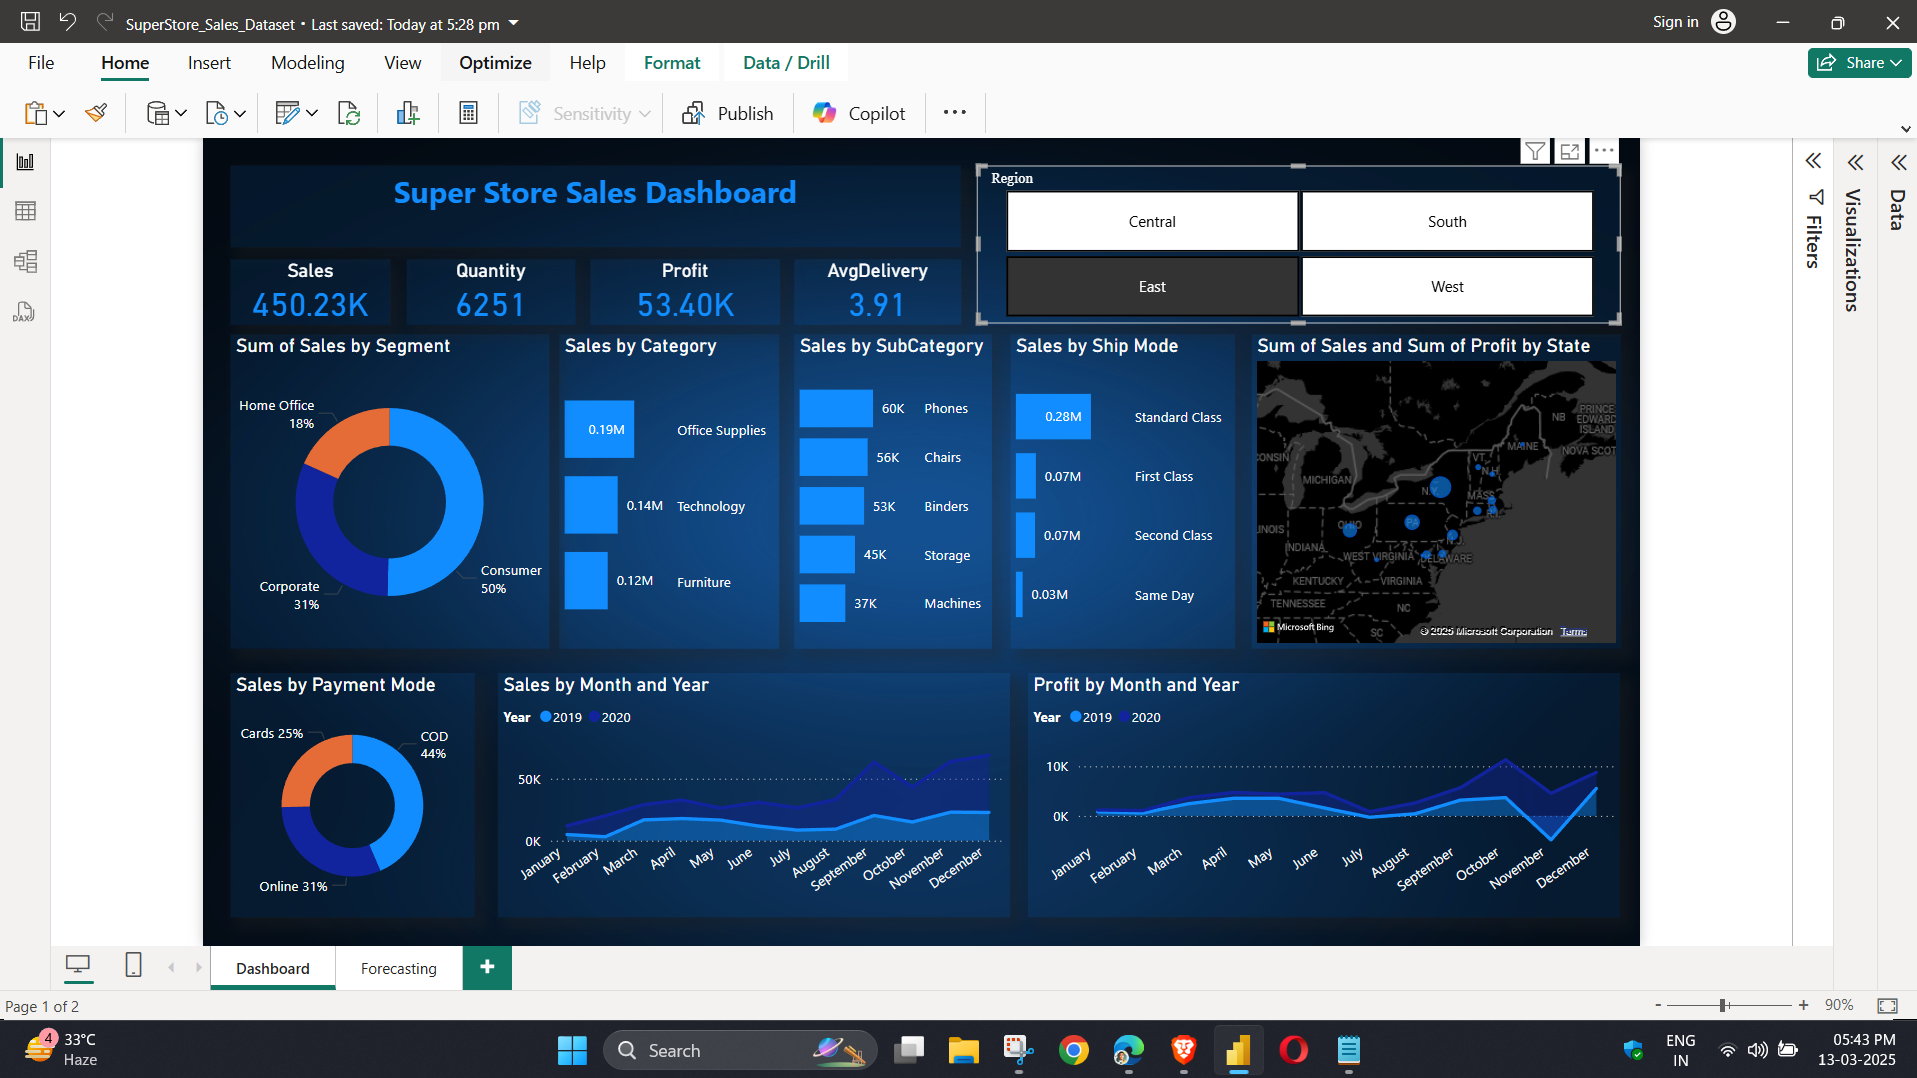

The dashboard page shown, as its layout file describes it:
{"tool":"powerbi","page":{"name":"Dashboard","canvas":[1280,720],"ordinal":0},"visuals":[{"type":"clusteredBarChart","title":"Sales by Category","fields":{"Category":["SuperStore_Sales_Dataset.Category"],"Y":["Sum(SuperStore_Sales_Dataset.Sales)"]},"box":[317.5,175,196.2,280],"z":0},{"type":"clusteredBarChart","title":"Sales by SubCategory","fields":{"Category":["SuperStore_Sales_Dataset.Sub-Category"],"Y":["Sum(SuperStore_Sales_Dataset.Sales)"]},"box":[526.2,175,176.2,280],"z":1000},{"type":"clusteredBarChart","title":"Sales by Ship Mode","fields":{"Category":["SuperStore_Sales_Dataset.Ship Mode"],"Y":["Sum(SuperStore_Sales_Dataset.Sales)"]},"box":[718.8,175,200,280],"z":2000},{"type":"stackedAreaChart","title":" Sales by Month and Year","fields":{"Category":["SuperStore_Sales_Dataset.Order Date.Variation.Date Hierarchy.Month","SuperStore_Sales_Dataset.Order Date.Variation.Date Hierarchy.Day"],"Y":["Sum(SuperStore_Sales_Dataset.Sales)"],"Series":["SuperStore_Sales_Dataset.Order Date.Variation.Date Hierarchy.Year"]},"box":[262.5,476.2,456.2,217.5],"z":3000},{"type":"stackedAreaChart","title":"Profit by Month and Year","fields":{"Category":["SuperStore_Sales_Dataset.Order Date.Variation.Date Hierarchy.Month","SuperStore_Sales_Dataset.Order Date.Variation.Date Hierarchy.Day"],"Series":["SuperStore_Sales_Dataset.Order Date.Variation.Date Hierarchy.Year"],"Y":["Sum(SuperStore_Sales_Dataset.Profit)"]},"box":[735,476.2,527.5,217.5],"z":4000},{"type":"map","fields":{"Category":["SuperStore_Sales_Dataset.State"],"Size":["Sum(SuperStore_Sales_Dataset.Sales)"]},"box":[933.8,175,328.8,280],"z":5000},{"type":"donutChart","fields":{"Category":["SuperStore_Sales_Dataset.Segment"],"Y":["Sum(SuperStore_Sales_Dataset.Sales)"]},"box":[25,175,283.8,280],"z":6000},{"type":"donutChart","title":"Sales by Payment Mode","fields":{"Category":["SuperStore_Sales_Dataset.Payment Mode"],"Y":["Sum(SuperStore_Sales_Dataset.Sales)"]},"box":[25,476.2,217.5,217.5],"z":7000},{"type":"slicer","fields":{"Values":["SuperStore_Sales_Dataset.Region"]},"box":[688.8,25,573.8,141.2],"z":8000},{"type":"textbox","box":[25,25,650,72.5],"z":9000},{"type":"card","title":"Sales","fields":{"Values":["Sum(SuperStore_Sales_Dataset.Sales)"]},"box":[25,107.5,142.5,58.8],"z":10000},{"type":"card","title":"Quantity","fields":{"Values":["Sum(SuperStore_Sales_Dataset.Quantity)"]},"box":[181.2,107.5,150,58.8],"z":11000},{"type":"card","title":"Profit","fields":{"Values":["Sum(SuperStore_Sales_Dataset.Profit)"]},"box":[345,107.5,168.8,58.8],"z":12000},{"type":"card","title":"AvgDelivery","fields":{"Values":["Avg(SuperStore_Sales_Dataset.AvgDelivery)"]},"box":[526.2,107.5,148.8,58.8],"z":13000}]}

Visuals, with their boxes on the page's 1280x720 design canvas (x1, y1, x2, y2). These are canvas units, not pixel positions in the 1917x1078 screenshot, which may show the page scaled, cropped or inside an application window:
"Sales by Category" clusteredBarChart: 318 175 514 455
"Sales by SubCategory" clusteredBarChart: 526 175 702 455
"Sales by Ship Mode" clusteredBarChart: 719 175 919 455
" Sales by Month and Year" stackedAreaChart: 262 476 719 694
"Profit by Month and Year" stackedAreaChart: 735 476 1262 694
map - SuperStore_Sales_Dataset.State x Sum(SuperStore_Sales_Dataset.Sales): 934 175 1263 455
donutChart - SuperStore_Sales_Dataset.Segment x Sum(SuperStore_Sales_Dataset.Sales): 25 175 309 455
"Sales by Payment Mode" donutChart: 25 476 242 694
slicer - SuperStore_Sales_Dataset.Region: 689 25 1263 166
textbox: 25 25 675 98
"Sales" card: 25 108 168 166
"Quantity" card: 181 108 331 166
"Profit" card: 345 108 514 166
"AvgDelivery" card: 526 108 675 166
